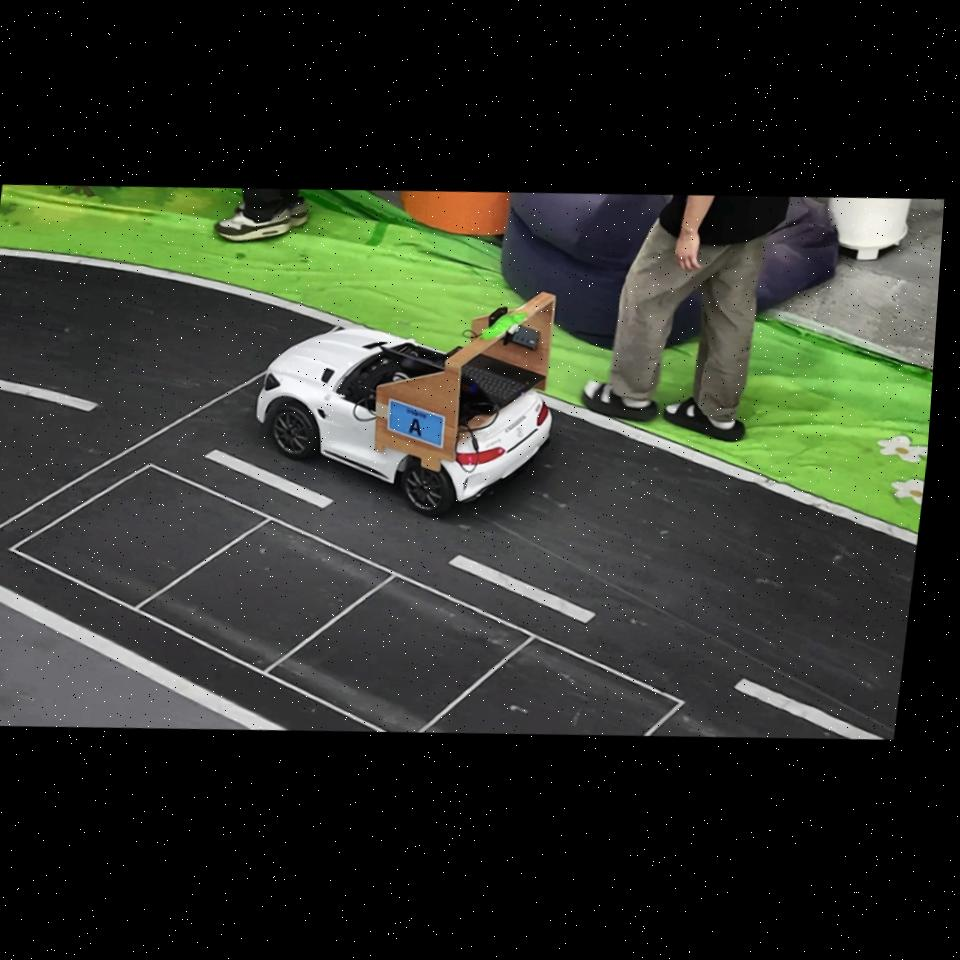broken_line: (450, 555, 595, 623), (735, 679, 883, 739), (204, 450, 333, 508), (0, 379, 97, 411)
